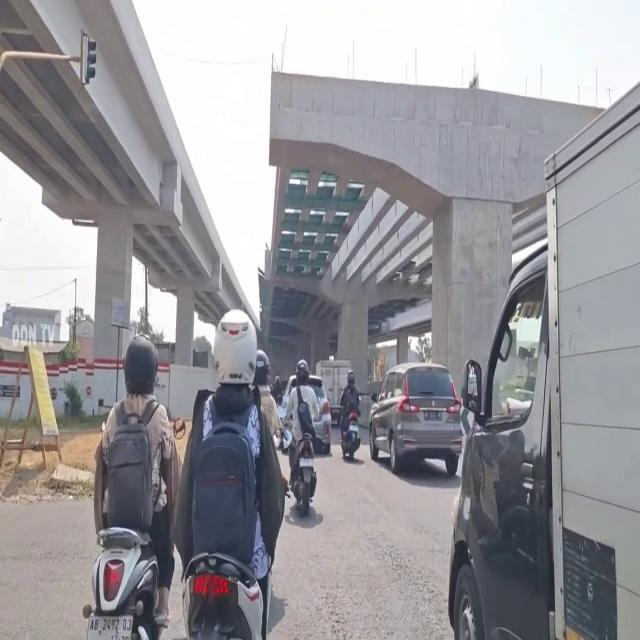WithHelmet: (171, 308, 285, 640), (91, 335, 182, 627), (283, 358, 323, 489), (255, 350, 284, 439), (340, 371, 362, 440)
